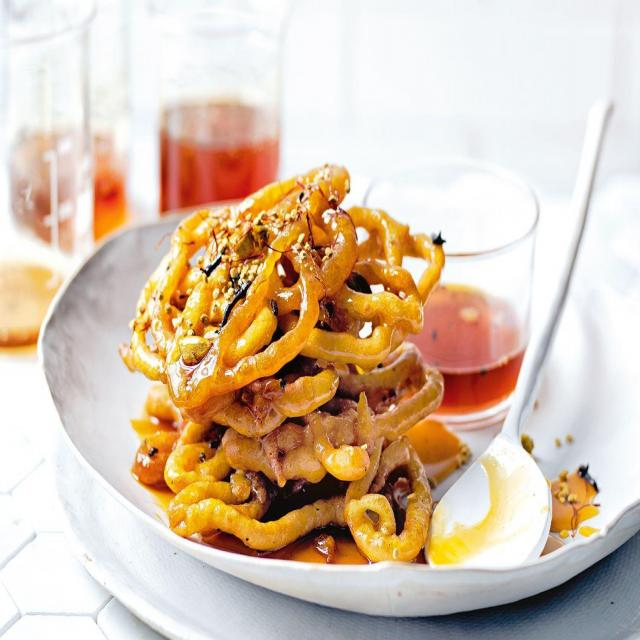jalebi: (148, 170, 442, 582)
